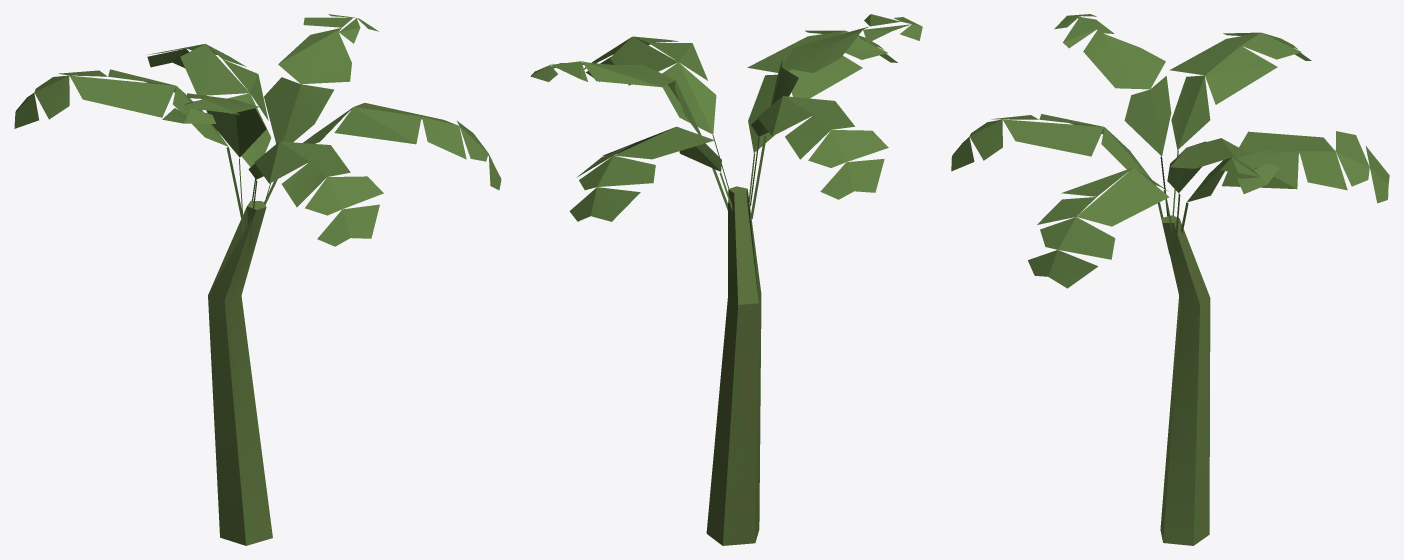
Rendered from Tree_Palm_03.fbx.
The picture shows the model from 3 angles, left to right: view 1: azimuth 30°, elevation 25°; view 2: azimuth 150°, elevation 25°; view 3: azimuth 270°, elevation 25°; orthographic projection. The views are drawn at different scales.
Parts seen in each view (by area): view 1: Tree_Palm_03; view 2: Tree_Palm_03; view 3: Tree_Palm_03.
Boxes of the visible parts, x1=… form: Tree_Palm_03: x1=14, y1=14, x2=501, y2=545; Tree_Palm_03: x1=530, y1=14, x2=922, y2=545; Tree_Palm_03: x1=951, y1=14, x2=1389, y2=545.
Size of the model in its own units: 116 by 144 by 122.
